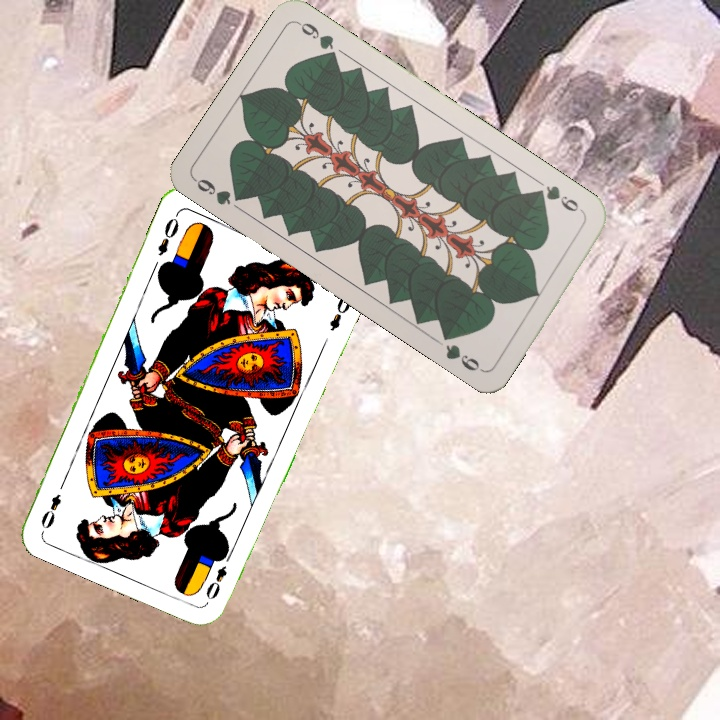EO: (201, 548, 235, 603), (153, 209, 182, 259)
G9: (532, 181, 588, 219), (190, 174, 249, 208)
